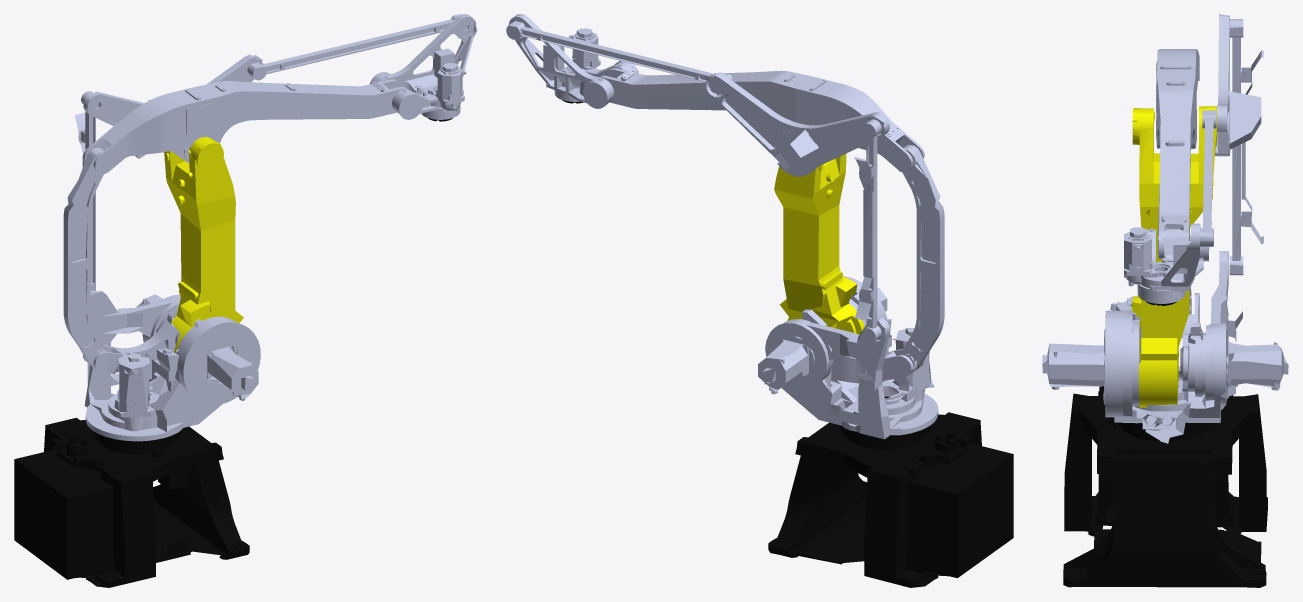
The model's file is FanucM410ic185.fbx.
3 views of the same model, side by side, from view 1: azimuth 30°, elevation 25°; view 2: azimuth 150°, elevation 25°; view 3: azimuth 270°, elevation 25° (orthographic). The views are drawn at different scales.
Visible parts, largest first — view 1: S201, S301, S402, S302, S304, S501, S403, S401, S303, S305; view 2: S201, S301, S402, S302, S401, S304, S501, S305, S403, S303; view 3: S201, S301, S302, S402, S501, S401, S305, S303, S403.
Boxes of the visible parts, <box> form: S201: <box>14,417,249,587</box>; S301: <box>84,290,260,441</box>; S402: <box>83,79,408,174</box>; S302: <box>164,137,243,352</box>; S304: <box>63,147,107,368</box>; S501: <box>370,14,477,119</box>; S403: <box>247,14,461,80</box>; S401: <box>83,54,262,152</box>; S303: <box>83,304,179,374</box>; S305: <box>74,91,95,290</box>; S201: <box>768,396,1013,587</box>; S301: <box>758,276,938,439</box>; S402: <box>599,68,924,172</box>; S302: <box>774,153,864,334</box>; S401: <box>704,72,889,176</box>; S304: <box>899,144,944,373</box>; S501: <box>508,14,638,108</box>; S305: <box>854,119,881,343</box>; S403: <box>506,21,732,81</box>; S303: <box>802,309,924,383</box>; S201: <box>1063,386,1267,587</box>; S301: <box>1042,251,1288,443</box>; S302: <box>1131,106,1216,407</box>; S402: <box>1156,49,1199,259</box>; S501: <box>1124,223,1209,303</box>; S401: <box>1215,14,1261,156</box>; S305: <box>1229,19,1263,275</box>; S303: <box>1180,293,1202,396</box>; S403: <box>1200,110,1216,246</box>.
Size of the model in its own units: 114 by 105 by 45.1.
